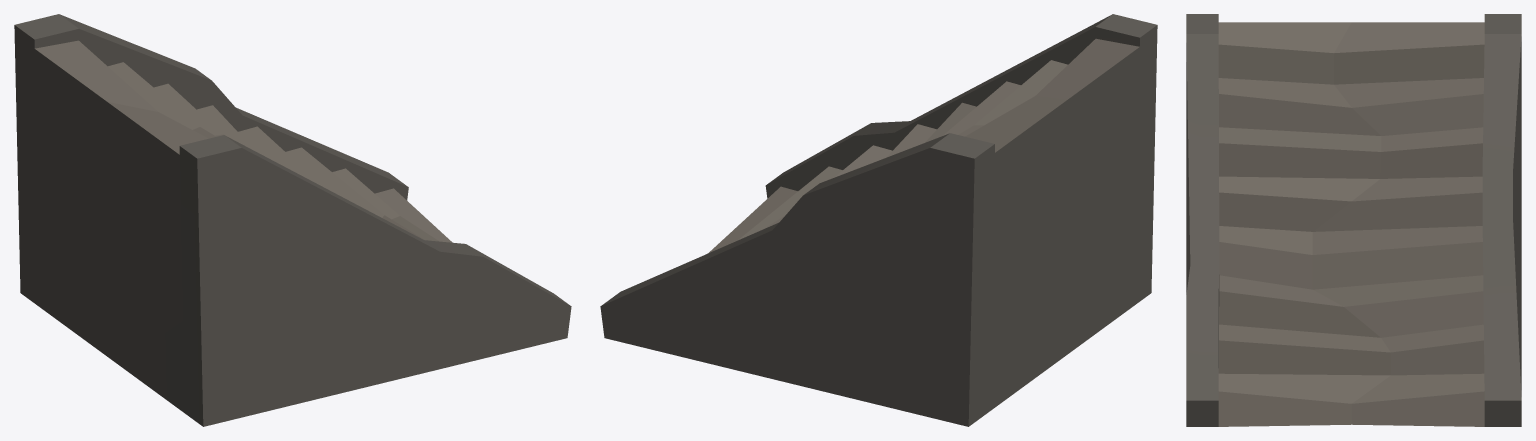
Rendered from SM_Bld_Fort_Stairs_01.glb.
The picture shows the model from 3 angles, left to right: view 1: azimuth 30°, elevation 25°; view 2: azimuth 150°, elevation 25°; view 3: azimuth 270°, elevation 25°; orthographic projection. The views are drawn at different scales.
Visible parts, largest first — view 1: SM_Bld_Fort_Stairs_01; view 2: SM_Bld_Fort_Stairs_01; view 3: SM_Bld_Fort_Stairs_01.
Part boxes in pixels (x1,y1,x2,y2): SM_Bld_Fort_Stairs_01: [14, 14, 571, 426]; SM_Bld_Fort_Stairs_01: [600, 14, 1157, 426]; SM_Bld_Fort_Stairs_01: [1186, 14, 1521, 426].
Bounding box in the file's own units: 0.0382 × 0.0263 × 0.0323.
Materials: 1 (1 with a texture image).
